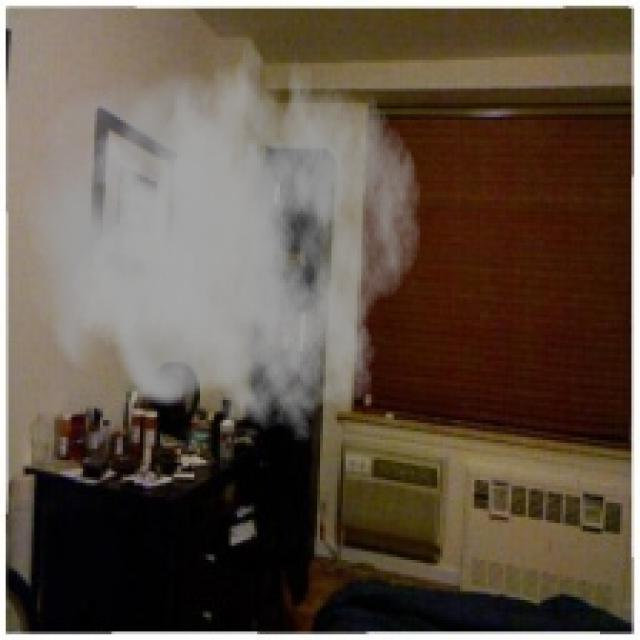smoke: (23, 17, 423, 443)
